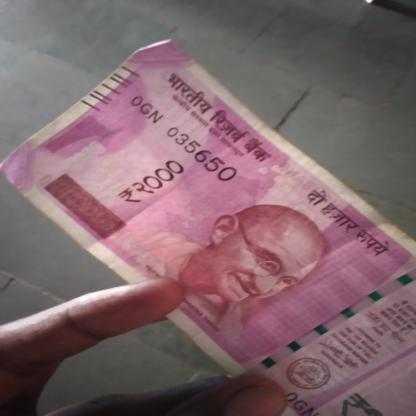New2000Front: (13, 43, 416, 413)
